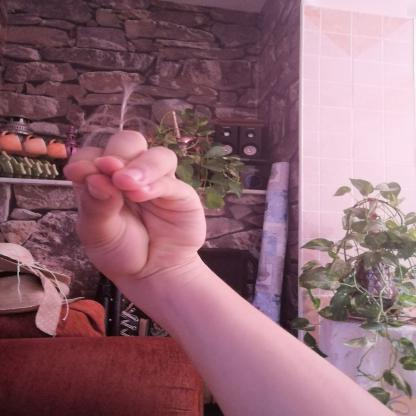HA: (49, 118, 227, 300)
